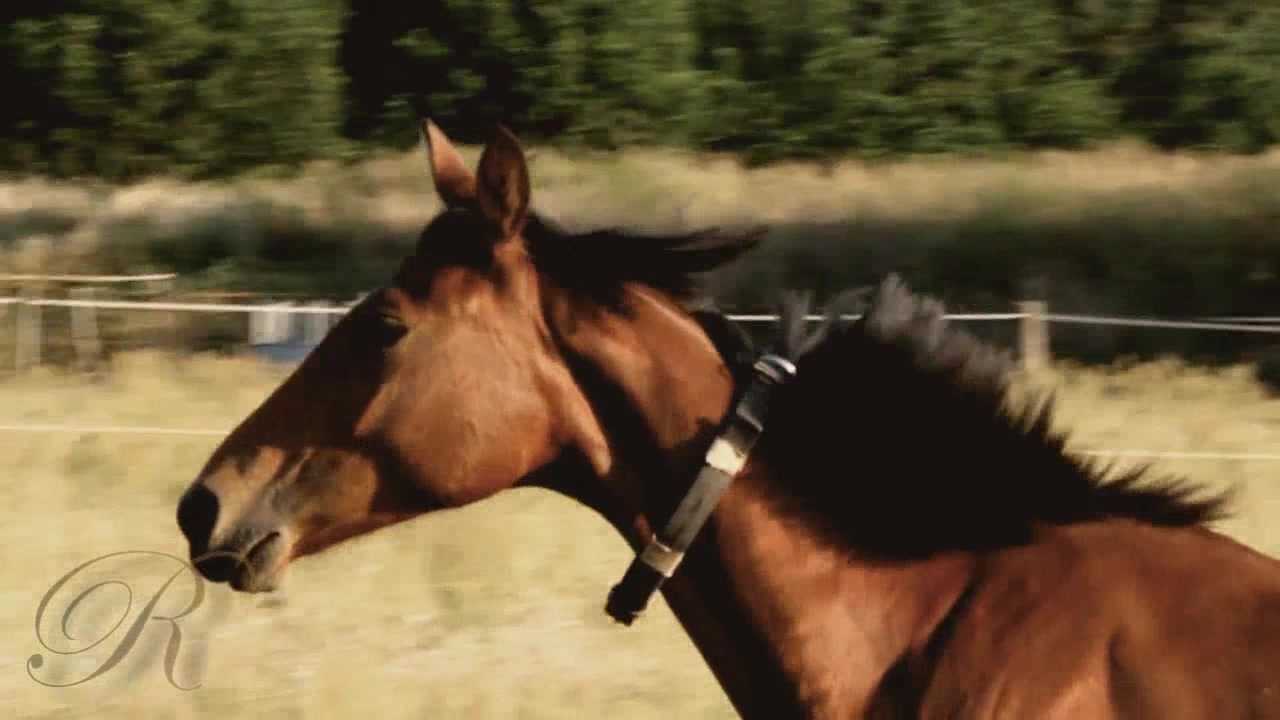horse: (173, 121, 1280, 720)
